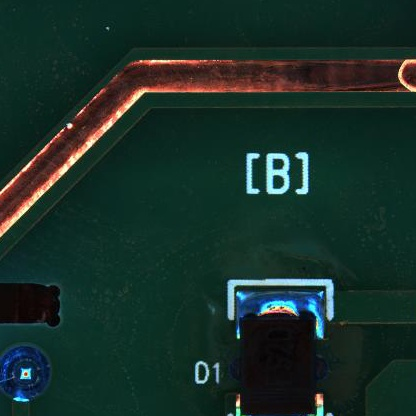spot: (1, 346, 54, 402)
